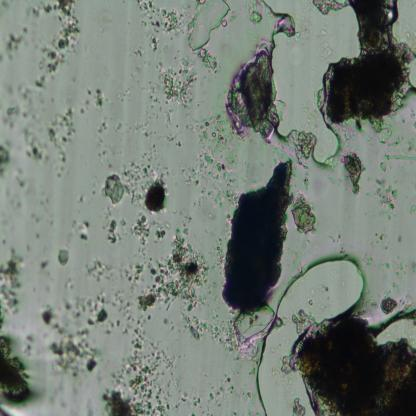Air bubble: (257, 0, 364, 165), (256, 257, 364, 415), (374, 307, 416, 347)
Background material: (296, 313, 416, 415), (326, 0, 412, 127), (102, 333, 180, 414), (135, 229, 205, 314), (228, 43, 286, 142), (189, 116, 240, 206), (32, 0, 78, 91), (40, 308, 101, 374), (17, 110, 77, 177), (0, 339, 38, 410), (182, 370, 240, 416), (182, 310, 234, 354), (186, 0, 230, 52), (157, 59, 197, 112), (103, 290, 146, 338), (232, 302, 272, 352), (0, 248, 24, 329), (139, 0, 187, 37), (0, 80, 35, 127), (124, 149, 156, 200), (280, 131, 316, 165), (290, 194, 319, 235), (143, 176, 169, 214), (342, 154, 364, 198), (375, 177, 398, 218), (86, 258, 124, 282), (134, 215, 165, 242), (82, 299, 109, 327), (59, 287, 81, 321), (2, 29, 27, 58), (365, 228, 393, 253), (289, 310, 317, 334), (370, 119, 394, 147), (102, 175, 125, 204), (377, 265, 411, 283), (0, 134, 13, 179), (79, 84, 97, 116), (95, 118, 108, 162), (278, 353, 297, 380), (70, 219, 92, 242), (200, 47, 220, 72), (380, 294, 398, 315), (129, 39, 144, 62), (35, 253, 50, 273), (107, 218, 118, 244), (94, 90, 107, 112), (291, 396, 306, 415), (57, 247, 69, 266), (167, 134, 182, 148), (275, 318, 288, 333), (248, 10, 260, 26), (150, 36, 160, 52), (302, 173, 309, 191), (380, 160, 390, 170)
Fragment: (222, 161, 290, 311)
